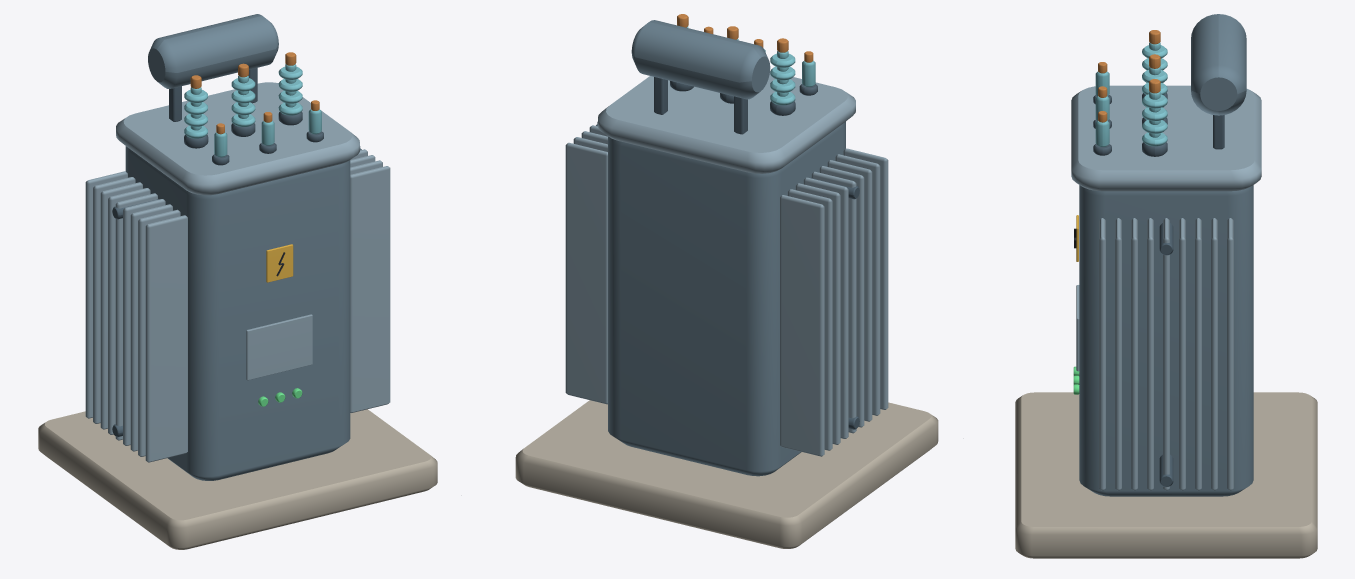
Rendered from transformateur.glb.
3 views of the same model, side by side, from view 1: azimuth 30°, elevation 25°; view 2: azimuth 150°, elevation 25°; view 3: azimuth 270°, elevation 25° (orthographic). The views are drawn at different scales.
Visible parts, largest first — view 1: pieces_transfo_clair.002, pieces_transfo.002, pieces_socle_beton.006, pieces_isolateur_verre.008, pieces_transfo_sombre.002, pieces_panneau_jaune.004, pieces_isolateur_cuivre.008; view 2: pieces_transfo.002, pieces_transfo_clair.002, pieces_socle_beton.006, pieces_transfo_sombre.002, pieces_isolateur_verre.008, pieces_isolateur_cuivre.008; view 3: pieces_transfo.002, pieces_transfo_clair.002, pieces_socle_beton.006, pieces_isolateur_verre.008, pieces_transfo_sombre.002, pieces_isolateur_cuivre.008.
Part boxes in pixels (left/top/right/bottom): pieces_transfo_clair.002: left=85, top=82, right=390, bottom=462; pieces_transfo.002: left=125, top=14, right=350, bottom=480; pieces_socle_beton.006: left=38, top=409, right=437, bottom=549; pieces_isolateur_verre.008: left=184, top=64, right=321, bottom=157; pieces_transfo_sombre.002: left=112, top=68, right=361, bottom=437; pieces_panneau_jaune.004: left=266, top=244, right=293, bottom=282; pieces_isolateur_cuivre.008: left=190, top=52, right=319, bottom=134; pieces_transfo.002: left=608, top=20, right=845, bottom=476; pieces_transfo_clair.002: left=565, top=71, right=888, bottom=456; pieces_socle_beton.006: left=515, top=400, right=938, bottom=548; pieces_transfo_sombre.002: left=596, top=77, right=859, bottom=429; pieces_isolateur_verre.008: left=687, top=26, right=815, bottom=105; pieces_isolateur_cuivre.008: left=677, top=14, right=813, bottom=62; pieces_transfo.002: left=1079, top=14, right=1253, bottom=496; pieces_transfo_clair.002: left=1071, top=85, right=1261, bottom=490; pieces_socle_beton.006: left=1015, top=392, right=1317, bottom=558; pieces_isolateur_verre.008: left=1095, top=42, right=1167, bottom=146; pieces_transfo_sombre.002: left=1093, top=93, right=1224, bottom=486; pieces_isolateur_cuivre.008: left=1098, top=30, right=1160, bottom=122.
Bounding box in the file's own units: 1.5 × 2.14 × 1.5.
